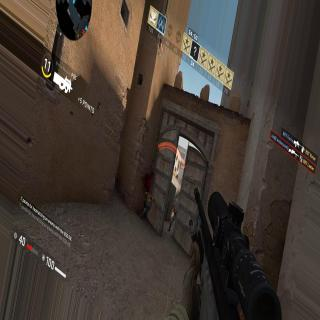T-Body: (168, 199, 178, 231), (175, 173, 179, 180)
T-Head: (175, 200, 178, 205), (177, 174, 178, 176)
